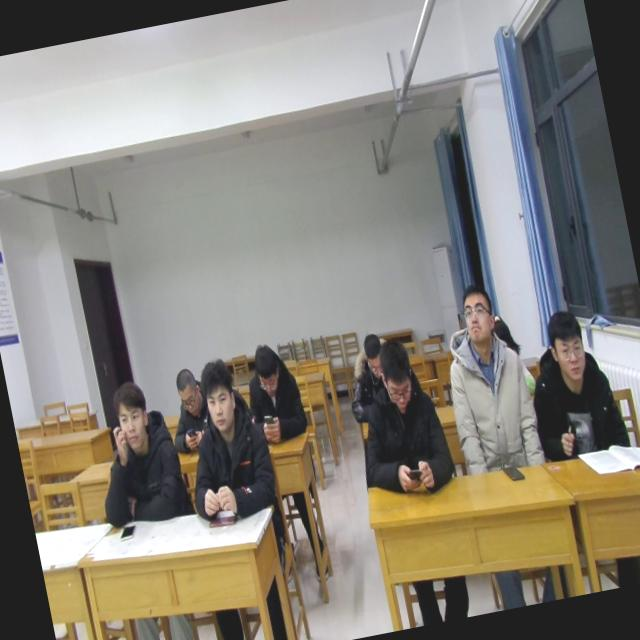bow: (336, 328, 402, 426), (162, 362, 218, 456)
down: (374, 334, 420, 416), (248, 336, 284, 397), (170, 362, 206, 418), (357, 329, 388, 380)
lookup: (193, 352, 245, 441), (104, 377, 160, 456), (540, 306, 592, 388), (454, 280, 498, 352)
sit: (432, 276, 547, 483), (339, 330, 460, 506), (167, 352, 283, 530), (518, 300, 632, 463), (80, 373, 190, 534), (238, 339, 310, 447)
